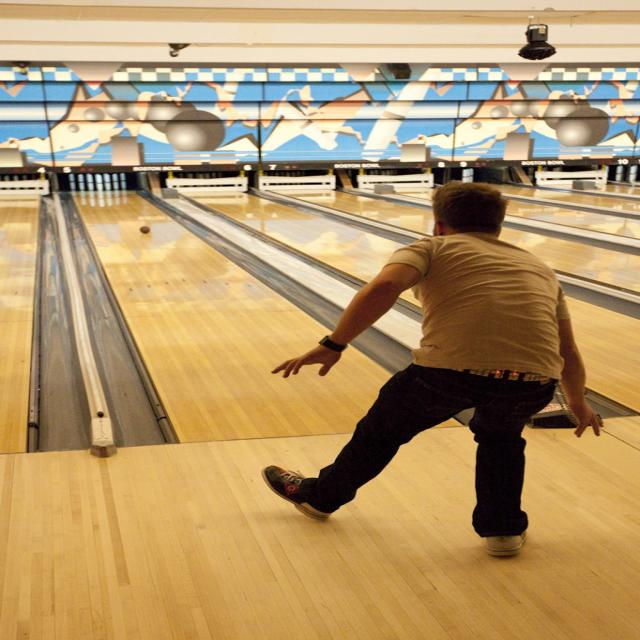Ball: (140, 226, 150, 234)
